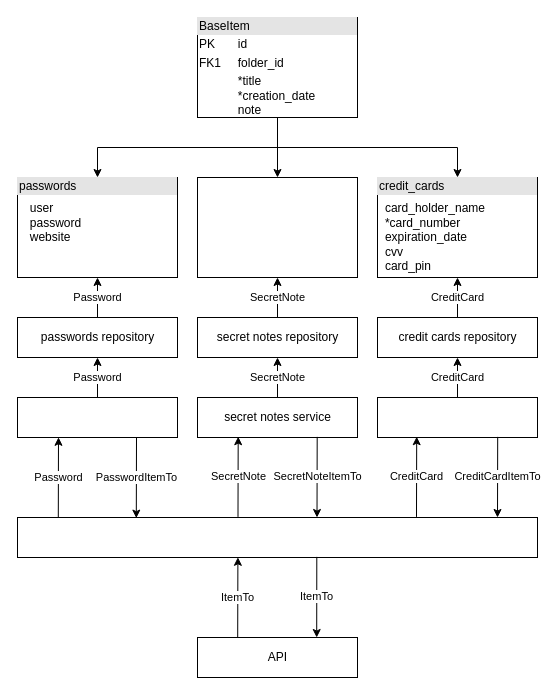
Image size: 558x695. Some labels were removed from this diagram. The box of each missing label's shape, as (x1, y1, x2, y2) in pixels:
credit cards service: (376, 396, 538, 438)
items controller: (16, 516, 538, 558)
passwords service: (16, 396, 178, 438)
secret_notes: (196, 176, 358, 278)
